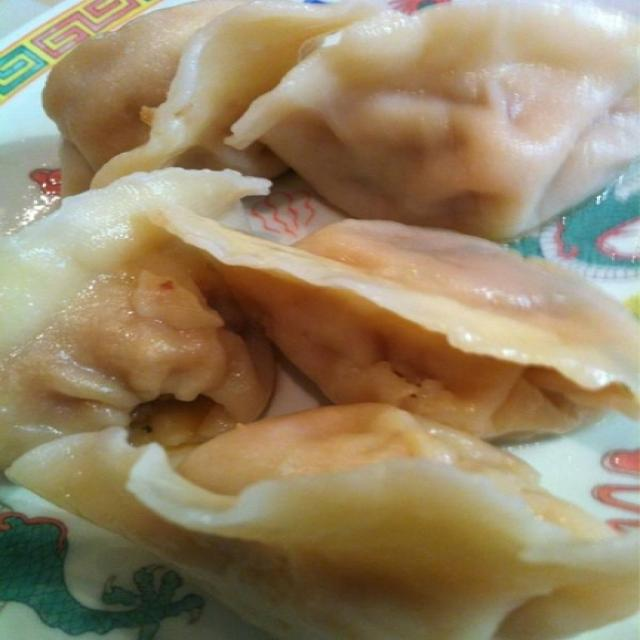带馅早点: (18, 10, 626, 602)
